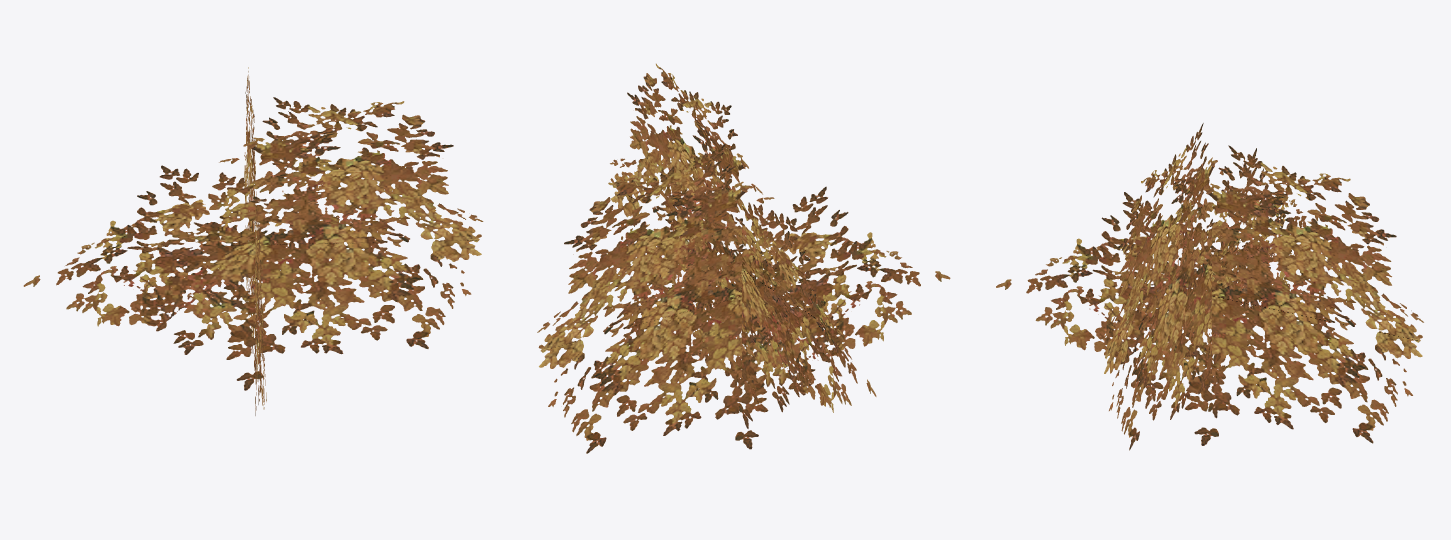
File: decd_saplingclump_lg_a1_l4.fbx
3 views of the same model, side by side, from view 1: azimuth 30°, elevation 25°; view 2: azimuth 150°, elevation 25°; view 3: azimuth 270°, elevation 25° (orthographic). The views are drawn at different scales.
Visible parts, largest first — view 1: mesh_node; view 2: mesh_node; view 3: mesh_node.
Part boxes in pixels (x1,y1,x2,y2): mesh_node: [23, 67, 483, 415]; mesh_node: [537, 63, 950, 453]; mesh_node: [996, 123, 1423, 450].
Size of the model in its own units: 3.73 by 3.19 by 3.73.
